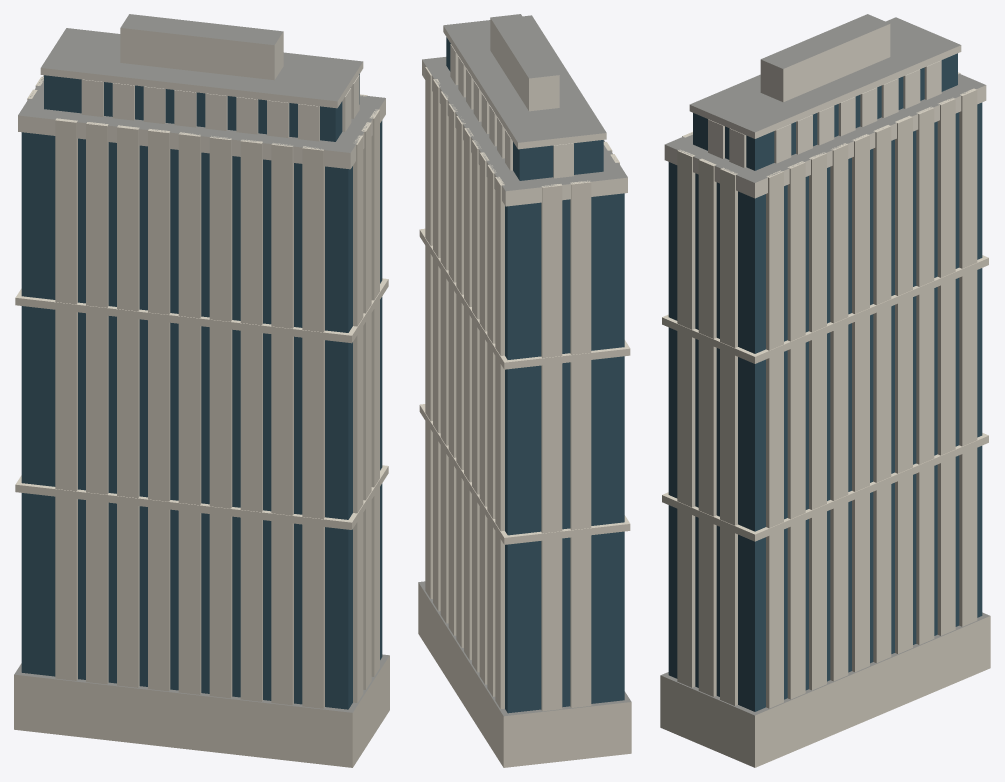
File: turnberry_place_w134677416.glb
The picture shows the model from 3 angles, left to right: view 1: azimuth 30°, elevation 25°; view 2: azimuth 150°, elevation 25°; view 3: azimuth 270°, elevation 25°; orthographic projection. The views are drawn at different scales.
Parts seen in each view (by area): view 1: Tower_w134677416; view 2: Tower_w134677416; view 3: Tower_w134677416.
Part boxes in pixels (x1=…): Tower_w134677416: x1=14, y1=14, x2=389, y2=767; Tower_w134677416: x1=418, y1=14, x2=631, y2=767; Tower_w134677416: x1=660, y1=14, x2=990, y2=767.
Size of the model in its own units: 67.56 by 148 by 67.34.
